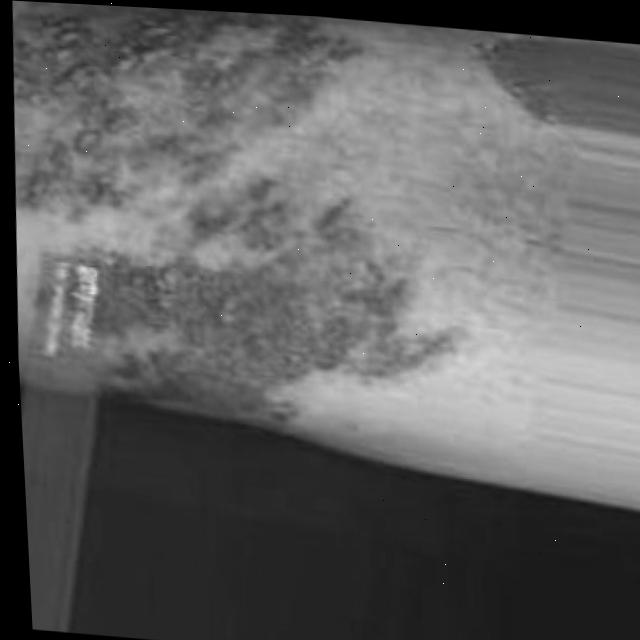Shingles: (89, 164, 468, 439), (3, 0, 380, 249)
